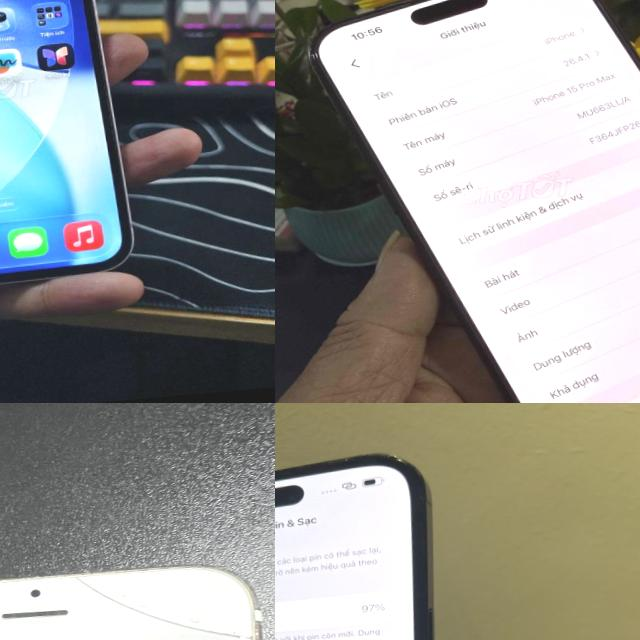gen_14: (275, 437, 474, 640), (0, 0, 135, 298)
gen_15: (295, 0, 640, 403)
gen_7_8: (0, 554, 275, 640)
